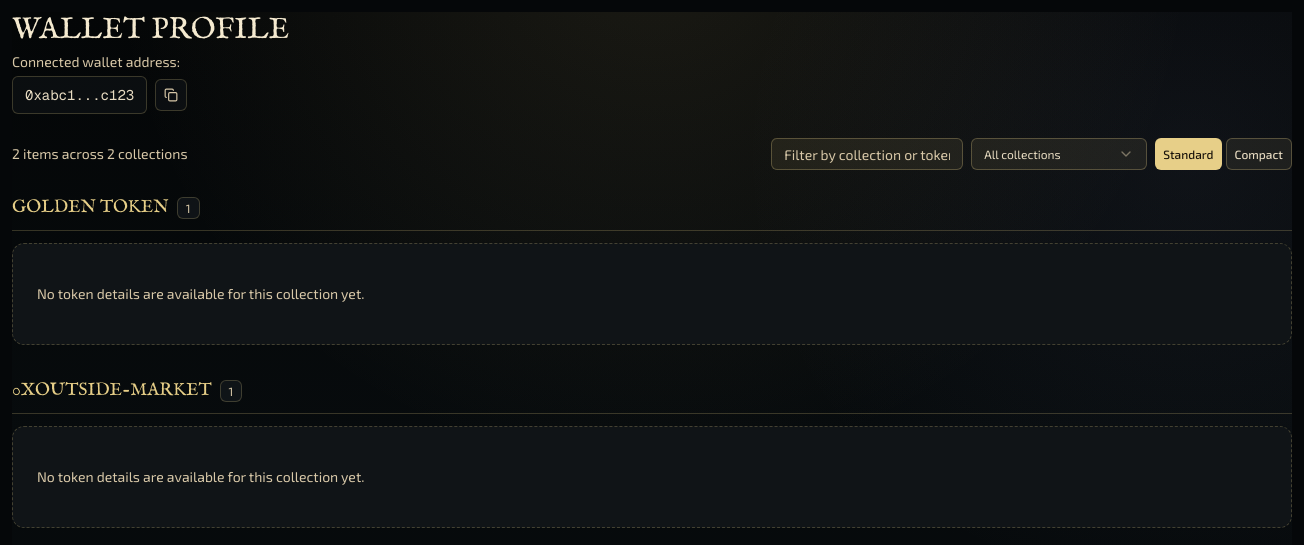
Test: WalletProfileView › shows_configured_and_unconfigured_collection_names_in_the_filter_and_results
Expected: the heading "Golden Token" is shown, [12,194,169,222]
Expected: the heading "0xoutside-market" is shown, [12,377,212,405]
Click the dropdown named "filter by collection" at (1059, 154), box [971,138,1147,170]
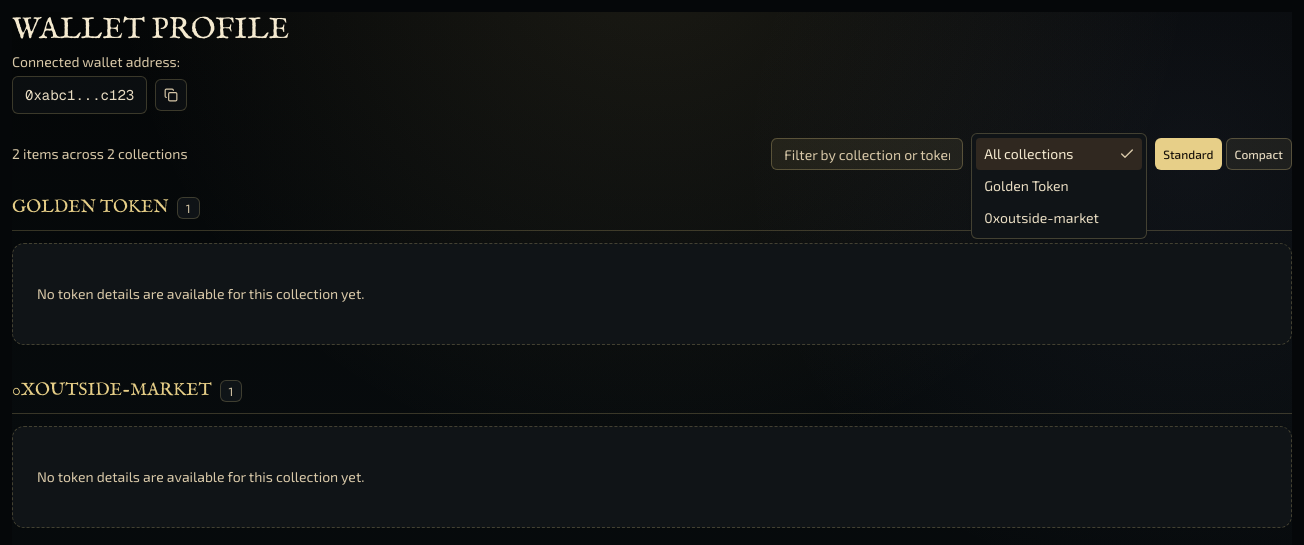
Now the option "Golden Token" is shown, box [984,177,1069,194]
Now the option "0xoutside-market" is shown, box [984,209,1099,226]
